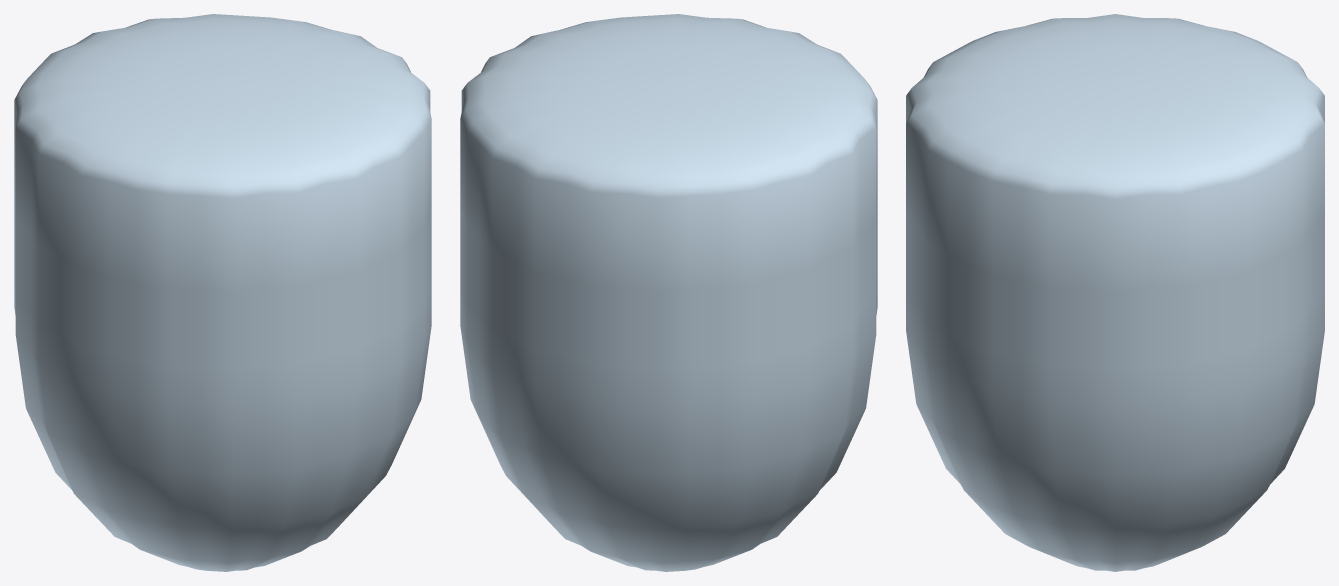
Rendered from shell_large_tower.glb.
3 renders of one model, left to right at view 1: azimuth 30°, elevation 25°; view 2: azimuth 150°, elevation 25°; view 3: azimuth 270°, elevation 25°, orthographic.
Visible parts, largest first — view 1: Rock; view 2: Rock; view 3: Rock.
Boxes of the visible parts, left/top/right/bottom form: Rock: left=14, top=14, right=431, bottom=571; Rock: left=460, top=14, right=877, bottom=571; Rock: left=906, top=14, right=1324, bottom=571.
Bounding box in the file's own units: 3.06 × 3.8 × 3.02.
